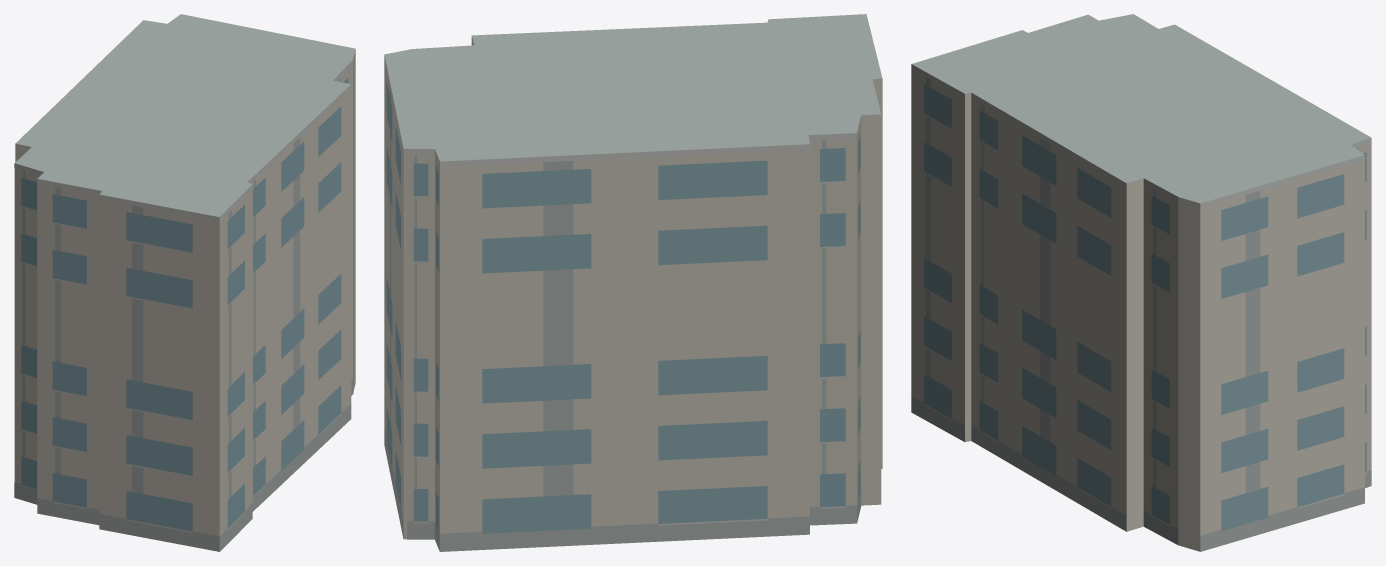
File: survey-upis-32555449.glb
3 renders of one model, left to right at view 1: azimuth 30°, elevation 25°; view 2: azimuth 150°, elevation 25°; view 3: azimuth 270°, elevation 25°, orthographic. The views are drawn at different scales.
Visible parts, largest first — view 1: survey-upis-32555449.tmp; view 2: survey-upis-32555449.tmp; view 3: survey-upis-32555449.tmp.
Part boxes in pixels (x1=…): survey-upis-32555449.tmp: x1=14, y1=14, x2=355, y2=551; survey-upis-32555449.tmp: x1=384, y1=14, x2=882, y2=551; survey-upis-32555449.tmp: x1=911, y1=14, x2=1371, y2=551.
Size of the model in its own units: 20.07 by 17.2 by 20.59.
